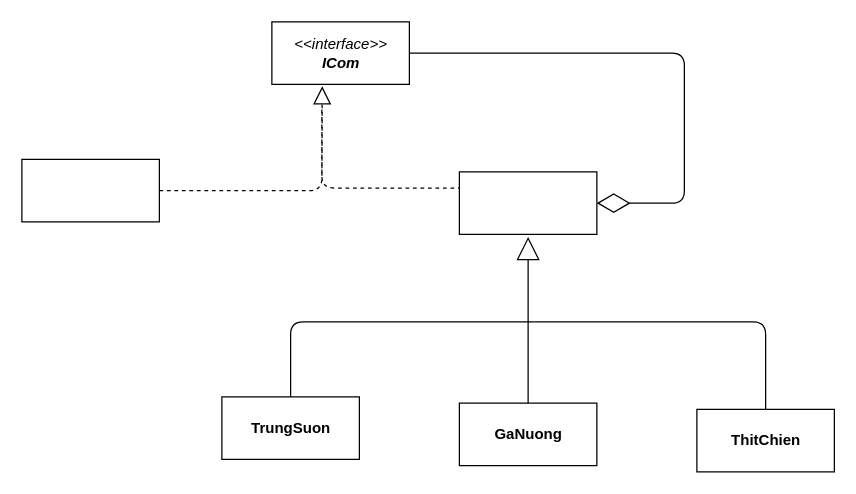
Some shapes in this 856 by 494 pixel diagram are drawn without their labels. Each missing label, with the centre of its shape:
Com: (x=90, y=190)
ComDecorator: (x=527, y=202)
